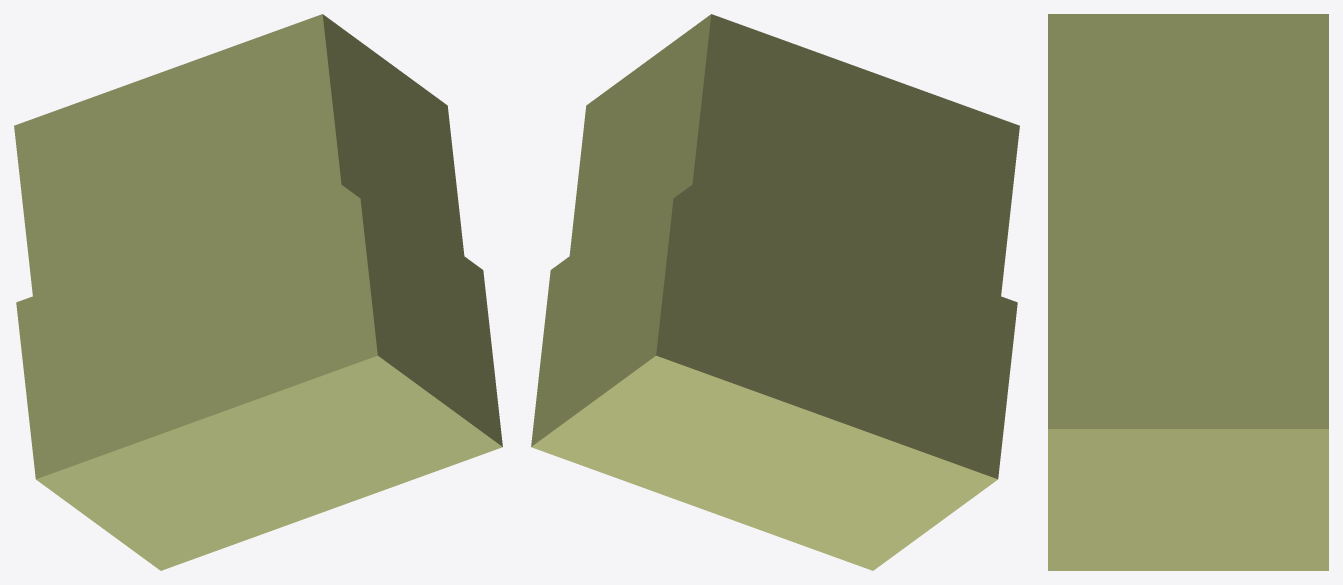
The picture shows the model from 3 angles, left to right: view 1: azimuth 30°, elevation 25°; view 2: azimuth 150°, elevation 25°; view 3: azimuth 270°, elevation 25°; orthographic projection. The views are drawn at different scales.
Parts seen in each view (by area): view 1: 0_3_1_3_3_2_2_3_1_2; view 2: 0_3_1_3_3_2_2_3_1_2; view 3: 0_3_1_3_3_2_2_3_1_2.
Boxes of the visible parts, <box> form: 0_3_1_3_3_2_2_3_1_2: <box>14,14,502,570</box>; 0_3_1_3_3_2_2_3_1_2: <box>531,14,1019,570</box>; 0_3_1_3_3_2_2_3_1_2: <box>1048,14,1328,570</box>.
Bounding box in the file's own units: 15.11 × 15.7 × 9.
